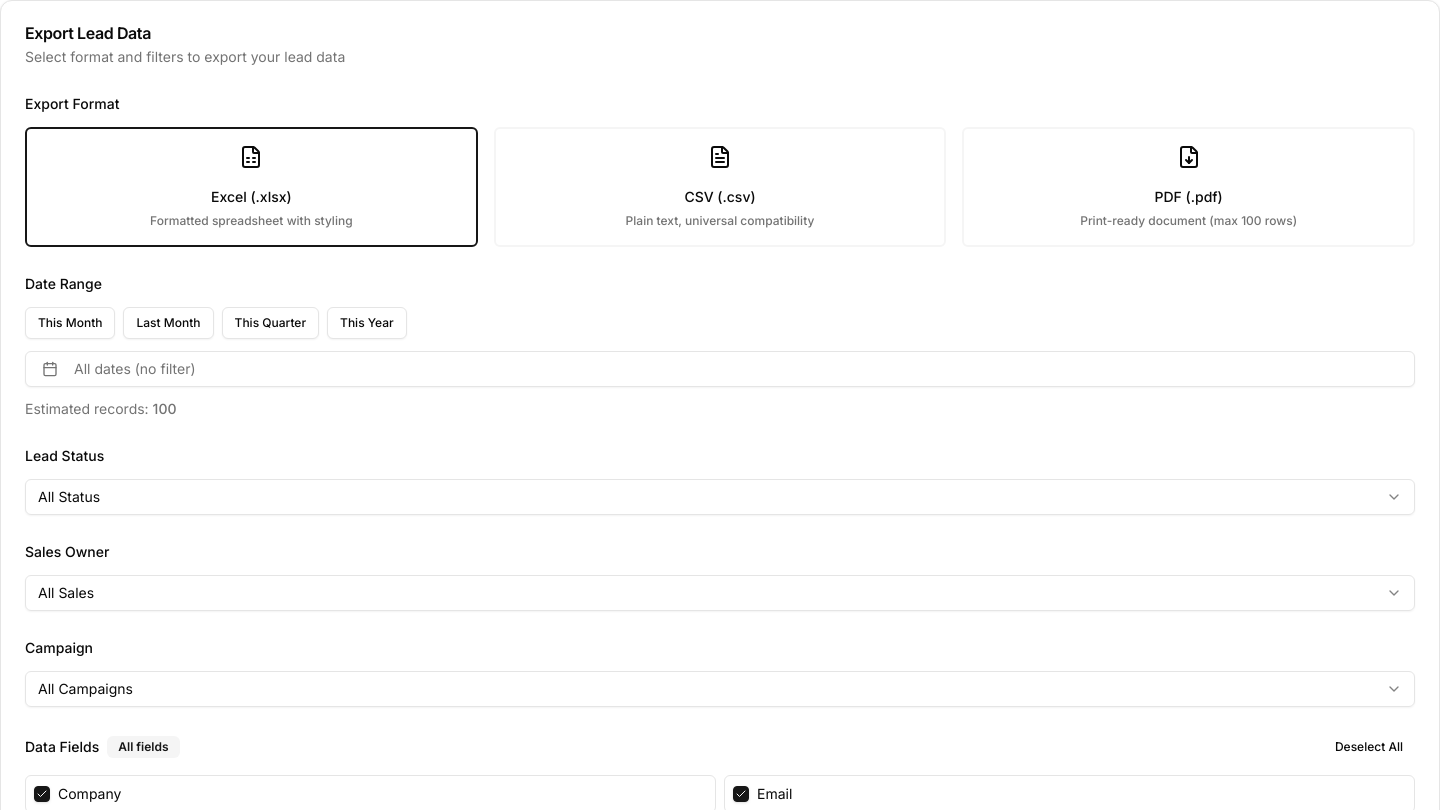
ExportForm - CSV Format (Story 6.8) › AC#2: CSV Export › should select CSV format when clicking CSV card
The width and height of the screenshot is (1440, 810).
expect the text "CSV (.csv)" is shown: met, box [684,188,756,205]
Click the text "CSV (.csv)" at {"x": 720, "y": 187}, box [494,127,946,247]
(page scrolled)
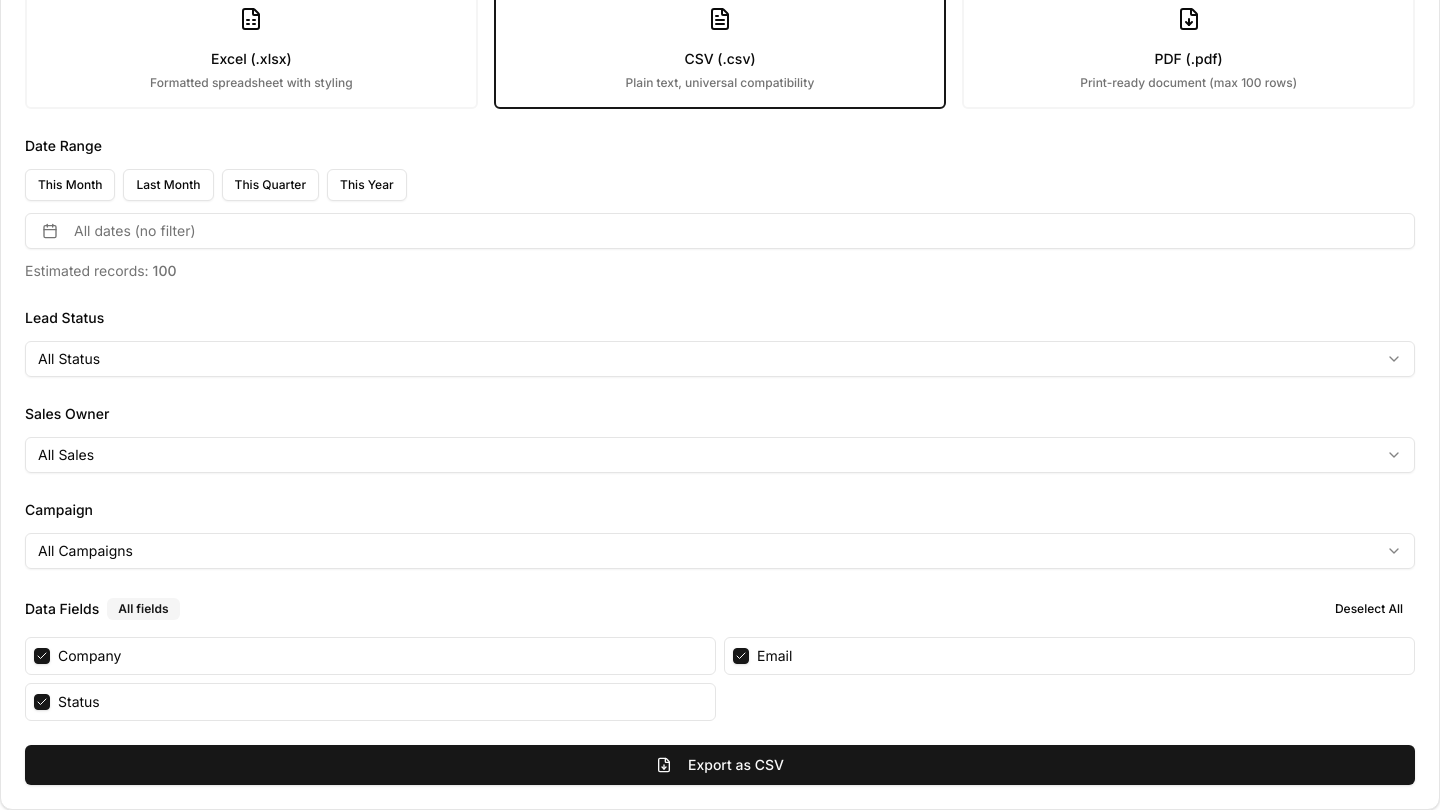
expect the button "Export as CSV" is shown: met, box [25,745,1415,785]
